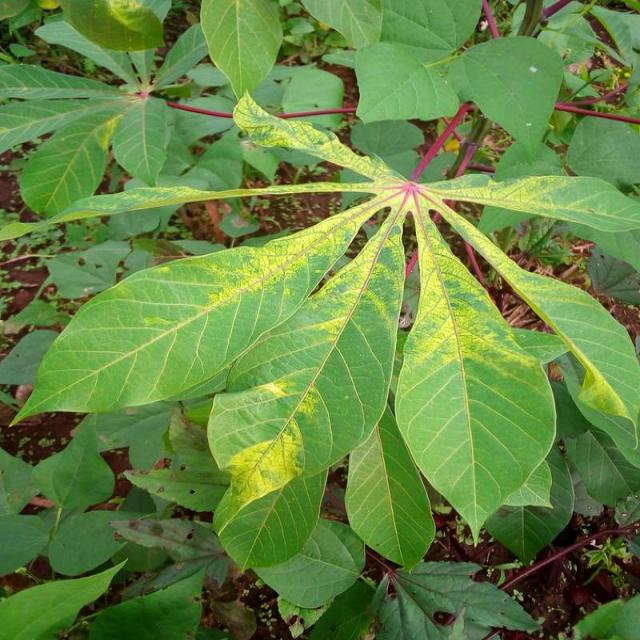Mosaico: (191, 104, 633, 415)
